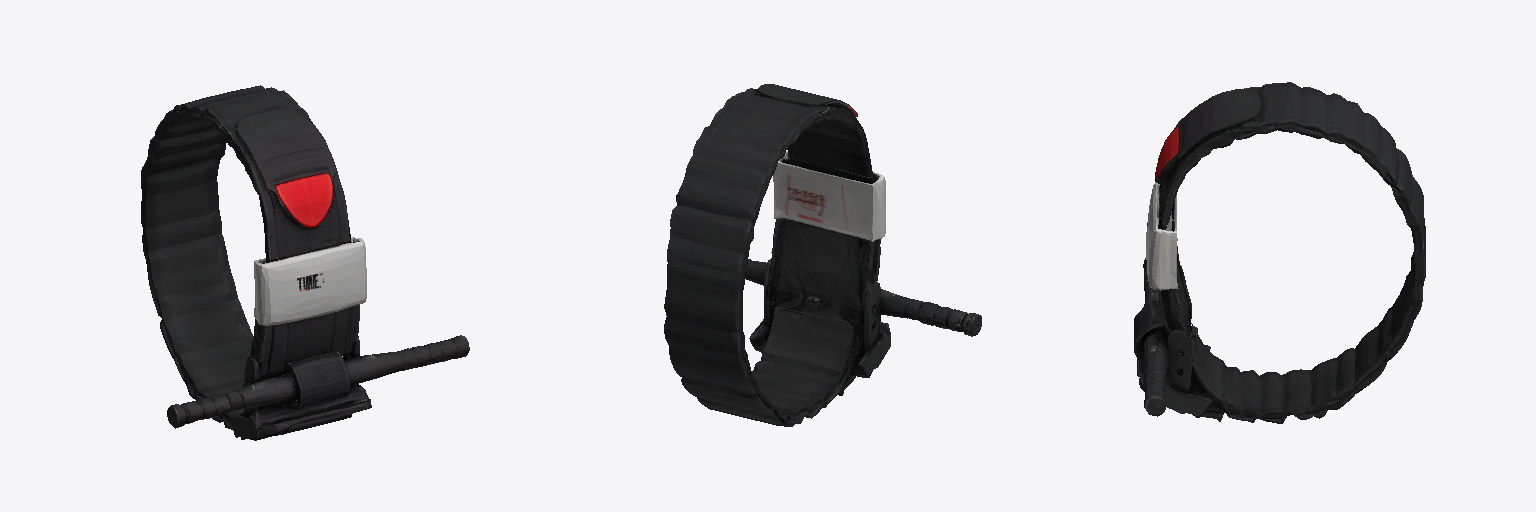
The picture shows the model from 3 angles: view 1: azimuth 30°, elevation 25°; view 2: azimuth 150°, elevation 25°; view 3: azimuth 270°, elevation 25°; orthographic projection.
Parts seen in each view (by area): view 1: Medical_Tourniquet_[number redacted]_texture; view 2: Medical_Tourniquet_[number redacted]_texture; view 3: Medical_Tourniquet_[number redacted]_texture.
Part boxes in pixels (x1,y1,x2,y2): Medical_Tourniquet_[number redacted]_texture: (141,85,469,440); Medical_Tourniquet_[number redacted]_texture: (664,84,981,426); Medical_Tourniquet_[number redacted]_texture: (1134,82,1425,423).
Bounding box in the file's own units: 2 × 2 × 1.73.
Materials: 1 (1 with a texture image).